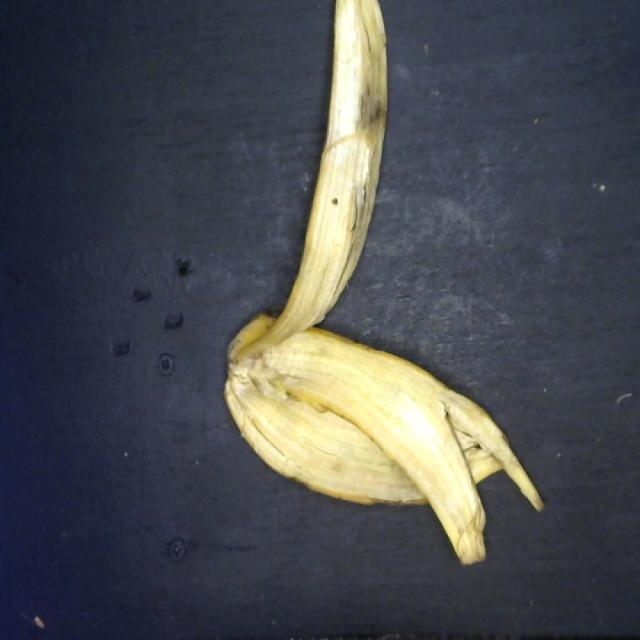biodegradable: (222, 0, 547, 573)
